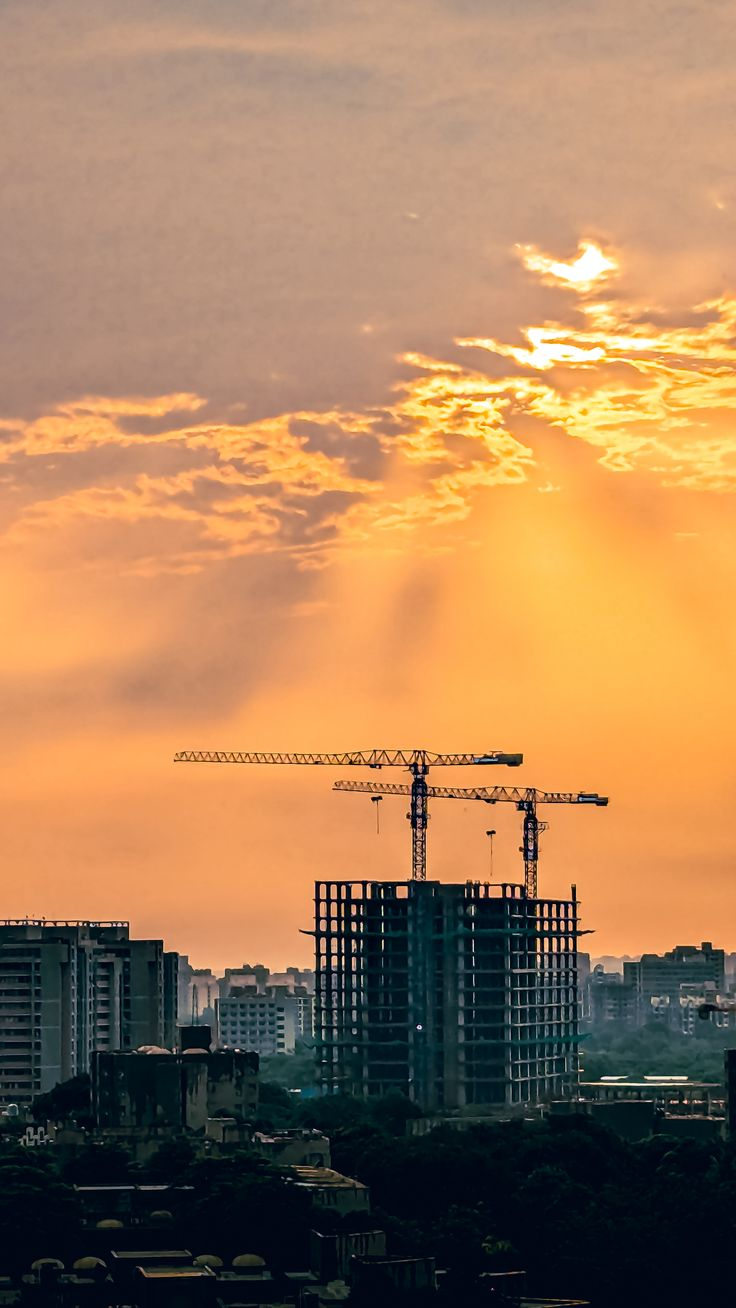crane: (152, 685, 496, 998), (336, 769, 611, 1055)
